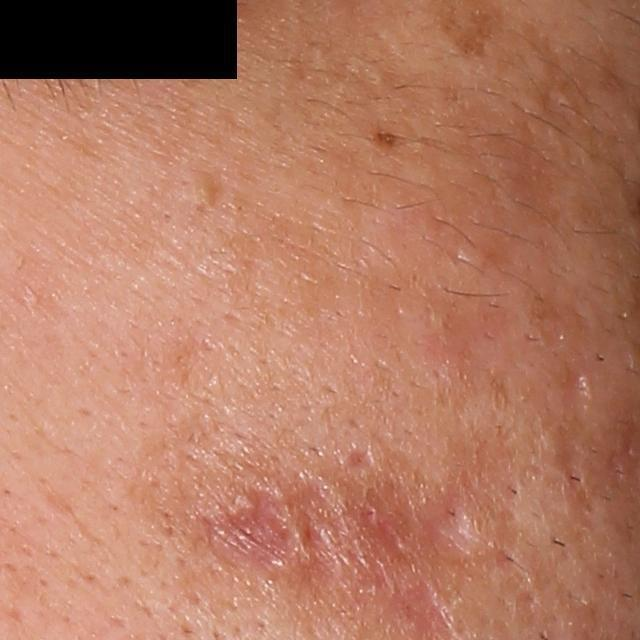atrophic_scar: (198, 473, 514, 633), (545, 364, 600, 501), (350, 449, 376, 470)
comedo: (181, 175, 216, 207)
nevus: (375, 129, 399, 149)
